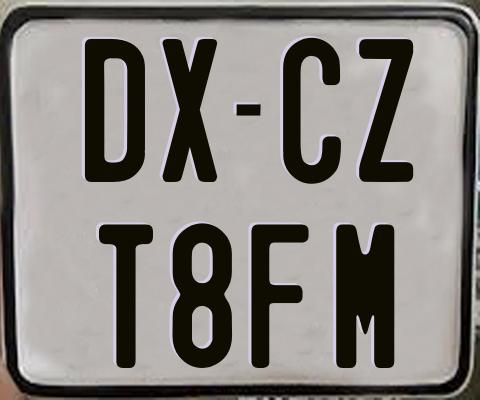8: (170, 221, 234, 372)
C: (281, 37, 341, 189)
D: (82, 38, 145, 187)
F: (248, 222, 308, 371)
M: (333, 221, 391, 367)
T: (97, 222, 154, 371)
X: (161, 36, 220, 182)
Z: (359, 39, 418, 188)
